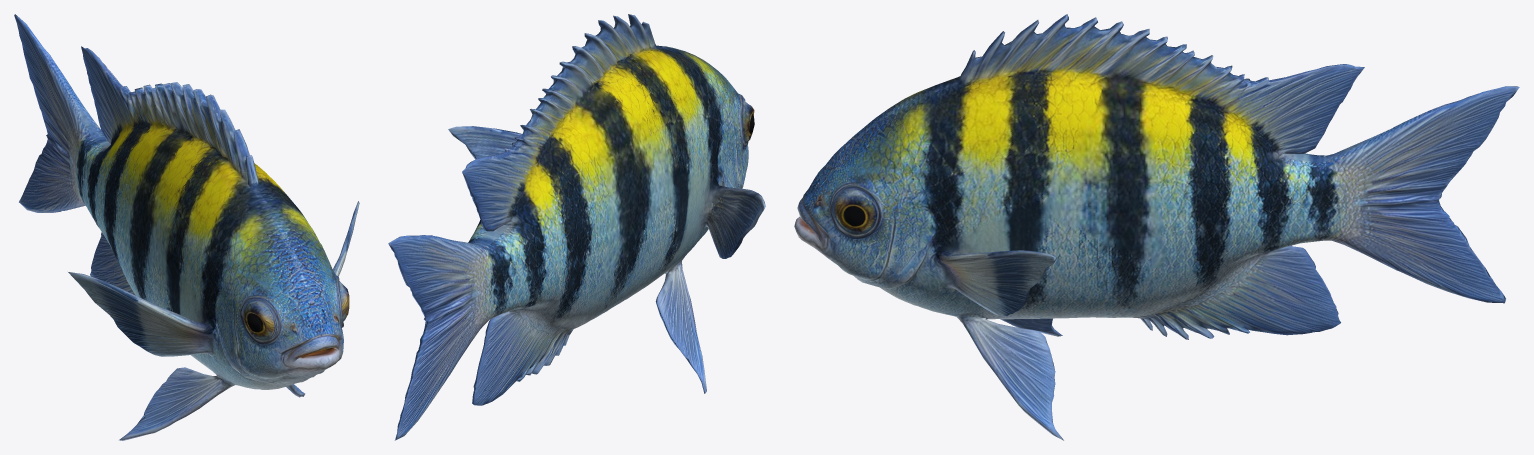
The model's file is SergeantMajor.obj.
3 views of the same model, side by side, from view 1: azimuth 30°, elevation 25°; view 2: azimuth 150°, elevation 25°; view 3: azimuth 270°, elevation 25° (orthographic). The views are drawn at different scales.
Bounding box in the file's own units: 0.5373 × 0.5672 × 1.
1 material, 1 textured.
